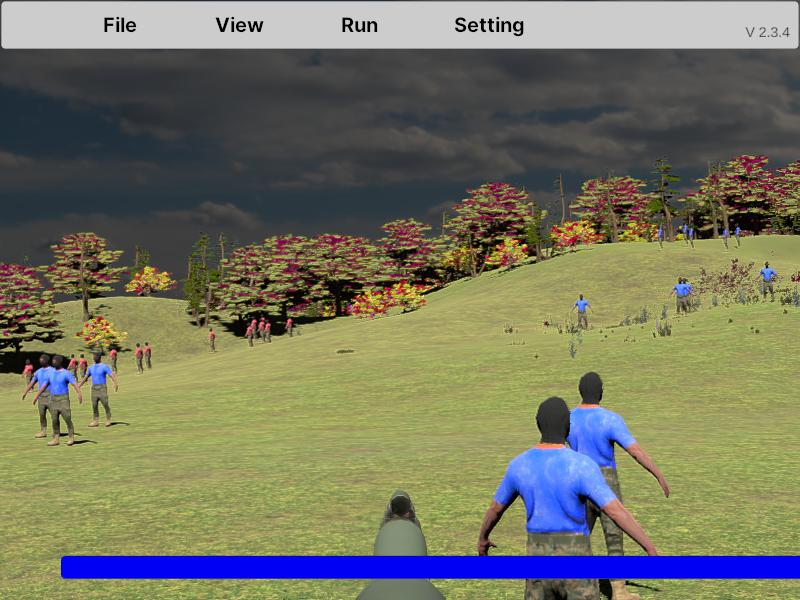Human: (476, 394, 659, 599), (519, 371, 670, 599), (32, 355, 82, 446), (22, 354, 69, 439), (22, 354, 66, 439), (79, 353, 117, 428)
